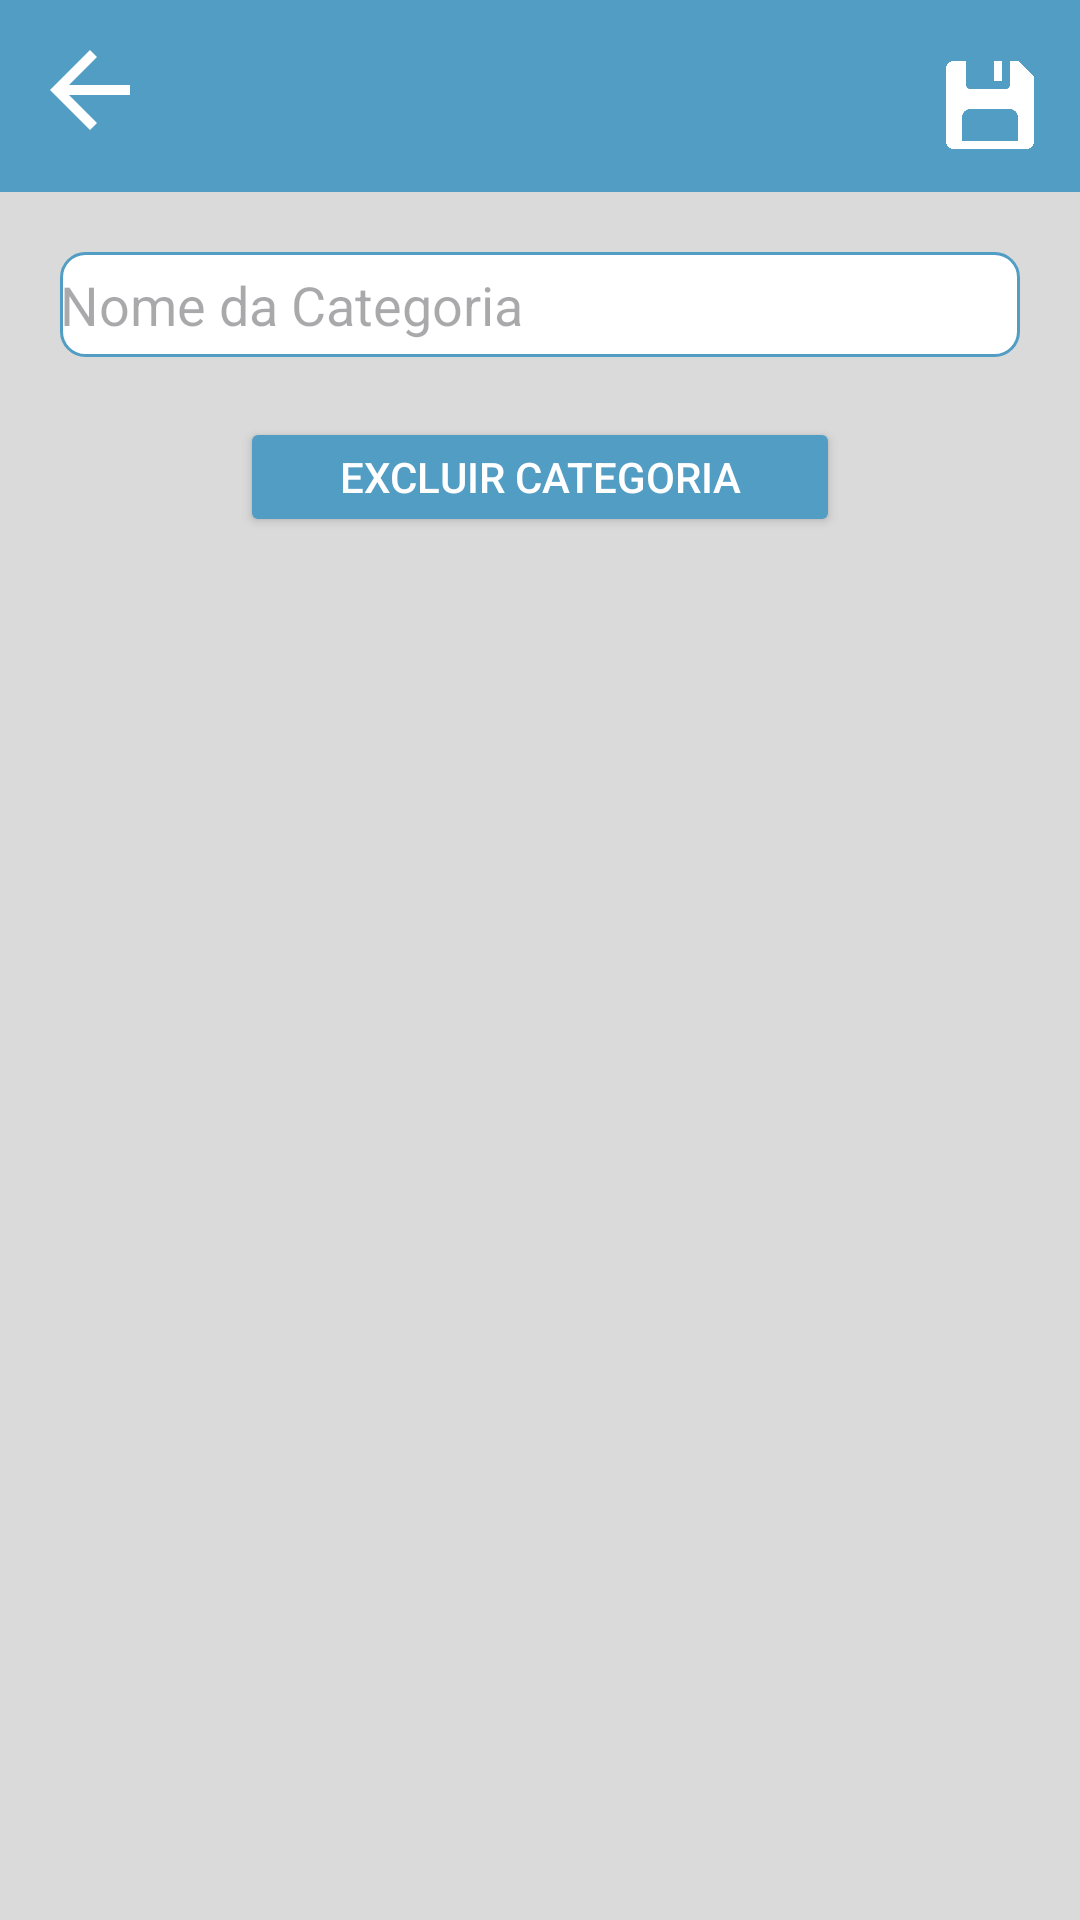

Where icons sit on this 1080 x 1920 app screen, as (x1, y1, x2, y2):
disket: (946, 61, 1034, 149)
